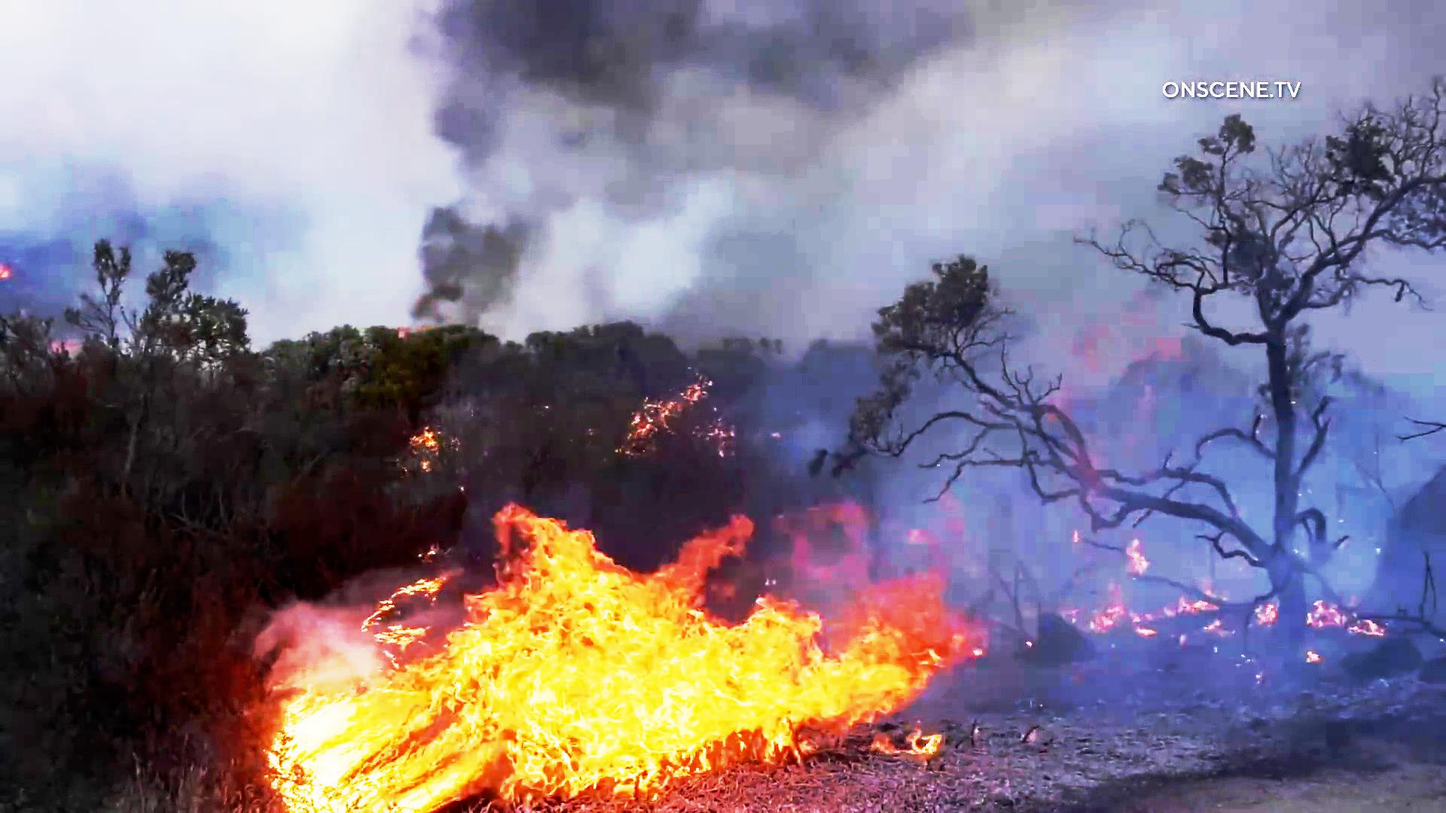fire: (273, 514, 945, 792)
